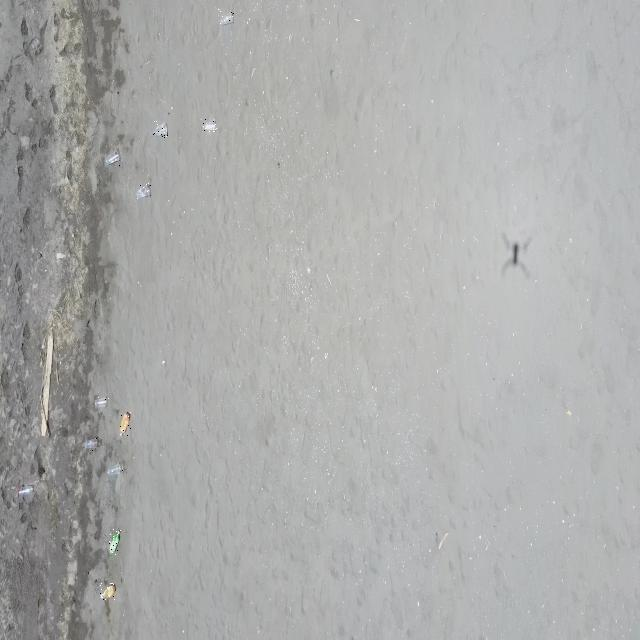plastic-bottle: (109, 529, 121, 555), (118, 412, 131, 436), (100, 583, 116, 601)
takeaway-cup: (104, 149, 122, 166), (153, 120, 169, 138), (106, 462, 124, 478), (84, 437, 99, 452), (137, 183, 151, 199), (203, 119, 217, 134), (19, 484, 35, 497), (96, 394, 110, 408), (220, 11, 234, 25)
